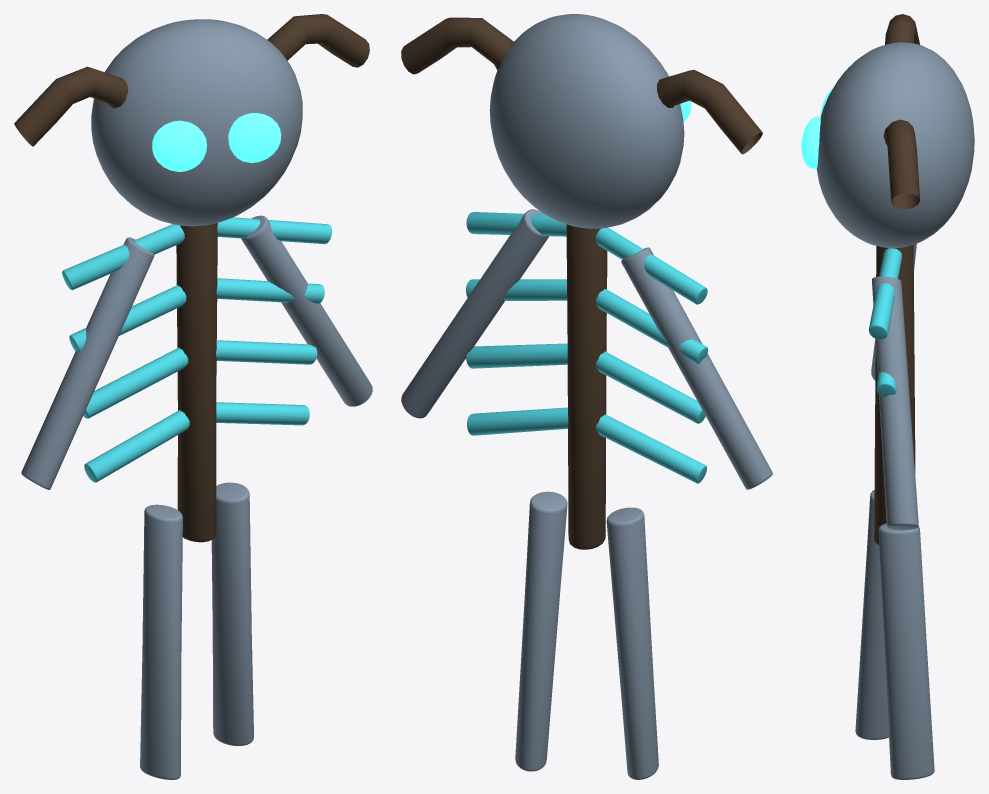
The model's file is undead_v8.glb.
3 renders of one model, left to right at view 1: azimuth 30°, elevation 25°; view 2: azimuth 150°, elevation 25°; view 3: azimuth 270°, elevation 25°, orthographic. The views are drawn at different scales.
Parts seen in each view (by area): view 1: SKULL_PRIMARY, SPINE_SECONDARY, BONE_LEG_PRIMARY, BONE_LEG_PRIMARY.001, BONE_ARM_PRIMARY, BONE_ARM_PRIMARY.001, SWEEP_ANTLER_SECONDARY, SWEEP_ANTLER_SECONDARY.001, RIB_L_ACCENT, RIB_L_ACCENT.001, RIB_L_ACCENT.003, EYE_EMISSIVE (+6 smaller); view 2: SKULL_PRIMARY, SPINE_SECONDARY, BONE_LEG_PRIMARY.001, BONE_LEG_PRIMARY, BONE_ARM_PRIMARY, BONE_ARM_PRIMARY.001, SWEEP_ANTLER_SECONDARY, SWEEP_ANTLER_SECONDARY.001, RIB_L_ACCENT, RIB_L_ACCENT.001, RIB_R_ACCENT, RIB_L_ACCENT.003 (+4 smaller); view 3: SKULL_PRIMARY, BONE_LEG_PRIMARY.001, BONE_ARM_PRIMARY.001, BONE_LEG_PRIMARY, SPINE_SECONDARY, SWEEP_ANTLER_SECONDARY.001, RIB_R_ACCENT.003, SWEEP_ANTLER_SECONDARY, EYE_EMISSIVE.001, RIB_R_ACCENT.002.
Boxes of the visible parts, bbox=[...] form: SKULL_PRIMARY: bbox=[91, 19, 302, 226]; SPINE_SECONDARY: bbox=[176, 223, 217, 542]; BONE_LEG_PRIMARY: bbox=[140, 504, 182, 779]; BONE_LEG_PRIMARY.001: bbox=[211, 482, 253, 745]; BONE_ARM_PRIMARY: bbox=[21, 237, 154, 489]; BONE_ARM_PRIMARY.001: bbox=[241, 215, 372, 406]; SWEEP_ANTLER_SECONDARY: bbox=[14, 66, 128, 146]; SWEEP_ANTLER_SECONDARY.001: bbox=[267, 14, 369, 67]; RIB_L_ACCENT: bbox=[84, 410, 189, 482]; RIB_L_ACCENT.001: bbox=[83, 347, 188, 418]; RIB_L_ACCENT.003: bbox=[62, 224, 184, 290]; EYE_EMISSIVE: bbox=[152, 120, 206, 171]; SKULL_PRIMARY: bbox=[489, 14, 684, 228]; SPINE_SECONDARY: bbox=[566, 224, 607, 549]; BONE_LEG_PRIMARY.001: bbox=[515, 491, 567, 771]; BONE_LEG_PRIMARY: bbox=[606, 507, 658, 779]; BONE_ARM_PRIMARY: bbox=[621, 247, 772, 489]; BONE_ARM_PRIMARY.001: bbox=[401, 209, 549, 418]; SWEEP_ANTLER_SECONDARY: bbox=[657, 70, 762, 154]; SWEEP_ANTLER_SECONDARY.001: bbox=[401, 17, 513, 74]; RIB_L_ACCENT: bbox=[596, 414, 706, 483]; RIB_L_ACCENT.001: bbox=[596, 351, 705, 423]; RIB_R_ACCENT: bbox=[467, 407, 568, 435]; RIB_L_ACCENT.003: bbox=[595, 227, 707, 304]; SKULL_PRIMARY: bbox=[816, 42, 974, 247]; BONE_LEG_PRIMARY.001: bbox=[878, 523, 934, 779]; BONE_ARM_PRIMARY.001: bbox=[872, 276, 918, 530]; BONE_LEG_PRIMARY: bbox=[855, 490, 888, 739]; SPINE_SECONDARY: bbox=[874, 244, 915, 545]; SWEEP_ANTLER_SECONDARY.001: bbox=[883, 119, 920, 209]; RIB_R_ACCENT.003: bbox=[868, 248, 901, 339]; SWEEP_ANTLER_SECONDARY: bbox=[885, 14, 919, 44]; EYE_EMISSIVE.001: bbox=[801, 116, 820, 168]; RIB_R_ACCENT.002: bbox=[876, 372, 896, 397].
Size of the model in its own units: 1.47 by 2.92 by 0.6527.
